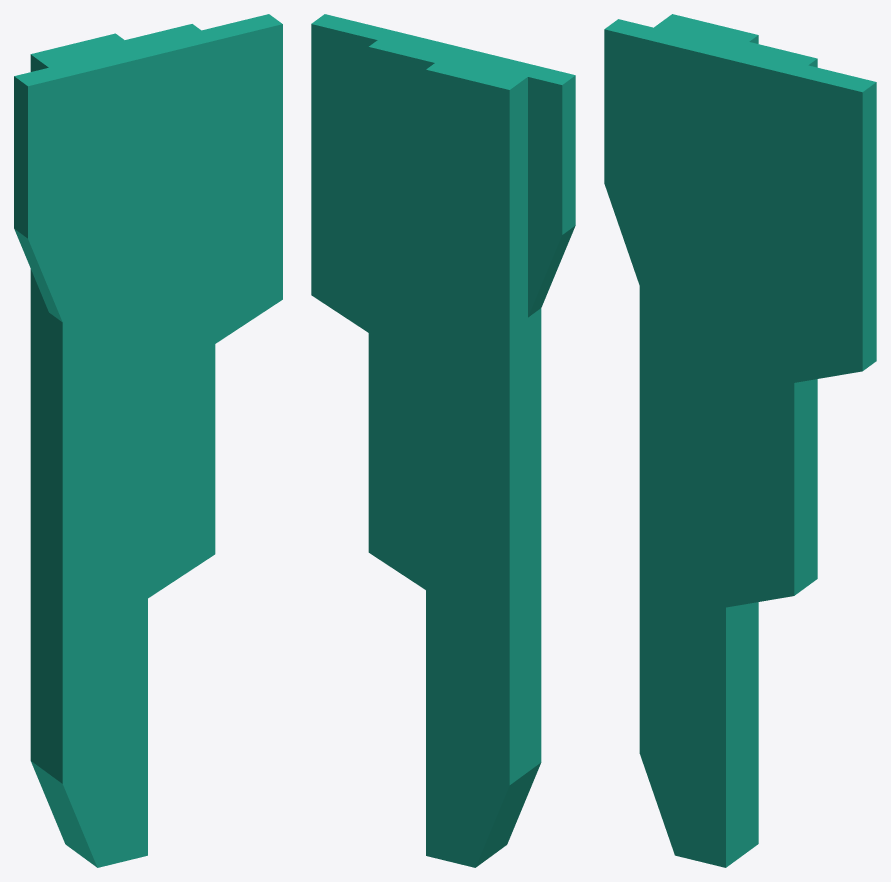
Rendered from hanging_moss.glb.
The picture shows the model from 3 angles, left to right: view 1: azimuth 30°, elevation 25°; view 2: azimuth 150°, elevation 25°; view 3: azimuth 330°, elevation 25°; orthographic projection. The views are drawn at different scales.
Parts seen in each view (by area): view 1: hanging_moss; view 2: hanging_moss; view 3: hanging_moss.
Boxes of the visible parts, x1,y1,x2,y2 form: hanging_moss: (14, 14, 282, 867); hanging_moss: (311, 14, 575, 867); hanging_moss: (604, 14, 876, 867).
Bounding box in the file's own units: 0.1918 × 0.5742 × 0.042.
